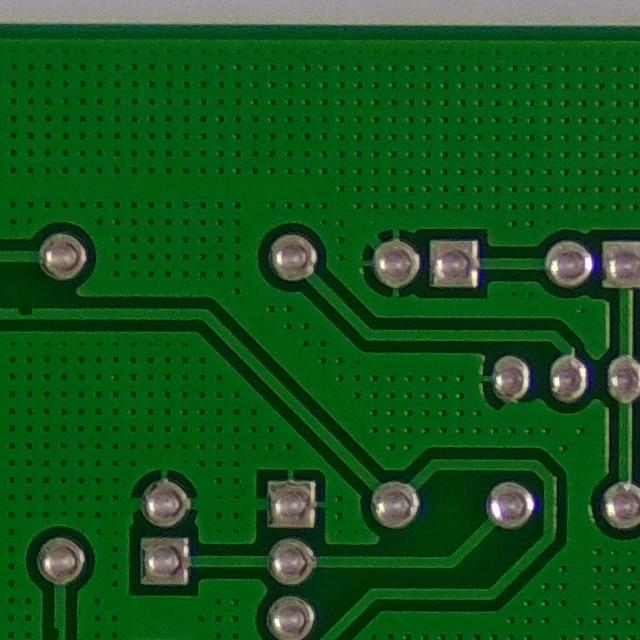mouse_bite: (4, 296, 45, 331), (41, 615, 73, 640)
